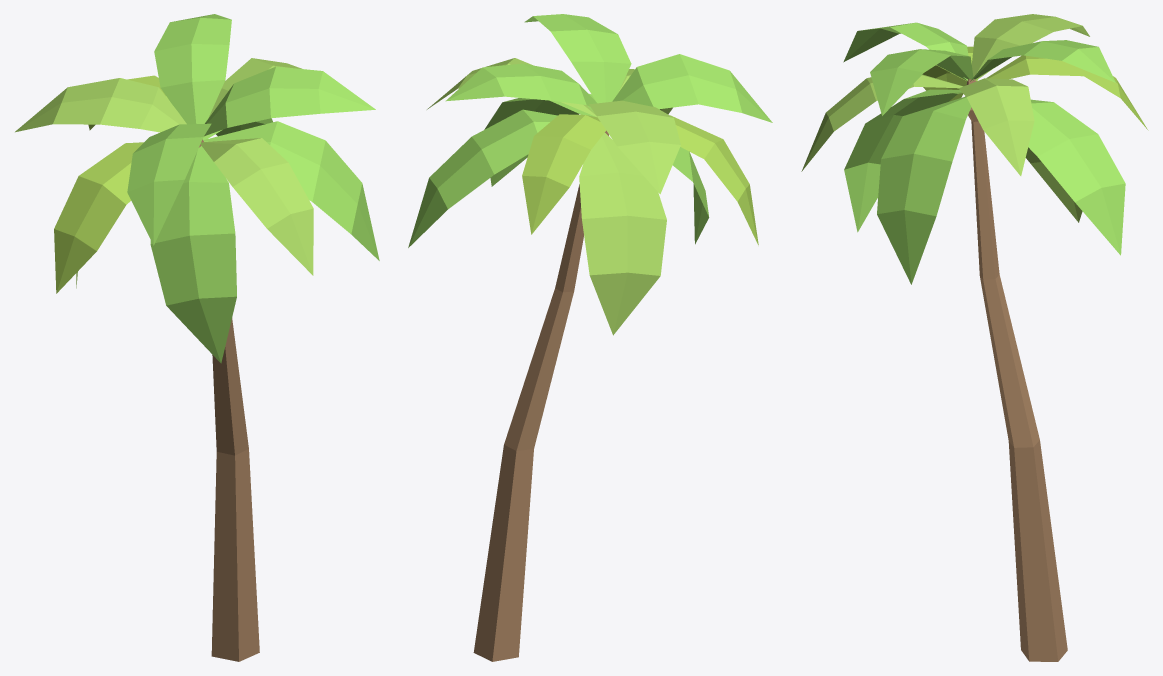
Rendered from Palm_Tree_l_06_LOD.fbx.
3 views of the same model, side by side, from view 1: azimuth 30°, elevation 25°; view 2: azimuth 150°, elevation 25°; view 3: azimuth 270°, elevation 25° (orthographic). The views are drawn at different scales.
Parts seen in each view (by area): view 1: Palm_Tree_l_06_LOD0; view 2: Palm_Tree_l_06_LOD0; view 3: Palm_Tree_l_06_LOD0.
Boxes of the visible parts, x1,y1,x2,y2 form: Palm_Tree_l_06_LOD0: (15, 14, 379, 661); Palm_Tree_l_06_LOD0: (408, 14, 772, 661); Palm_Tree_l_06_LOD0: (801, 14, 1148, 661).
Size of what is drawn, in the model's own units: 377 by 712 by 375.
